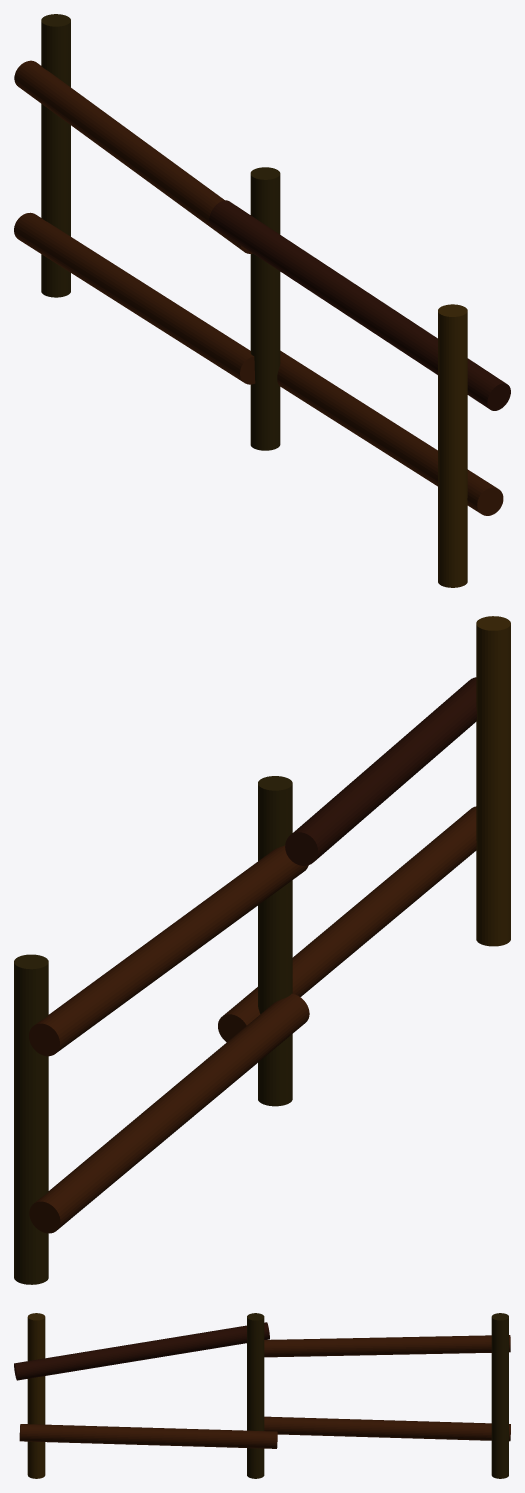
The model's file is fence.3.fbx.
3 renders of one model, top to bottom at view 1: azimuth 30°, elevation 25°; view 2: azimuth 150°, elevation 25°; view 3: azimuth 270°, elevation 25°, orthographic. The views are drawn at different scales.
Parts seen in each view (by area): view 1: 円柱.002, 円柱.006, 円柱, 円柱.005, 円柱.001, 円柱.003, 円柱.004; view 2: 円柱.006, 円柱.005, 円柱, 円柱.004, 円柱.003, 円柱.002, 円柱.001; view 3: 円柱.003, 円柱.002, 円柱.005, 円柱.006, 円柱.004, 円柱.001, 円柱.
Boxes of the visible parts, x1,y1,x2,y2 form: 円柱.002: (209, 200, 510, 410); 円柱.006: (14, 212, 255, 384); 円柱: (438, 304, 467, 587); 円柱.005: (14, 60, 252, 253); 円柱.001: (250, 167, 280, 450); 円柱.003: (277, 350, 503, 515); 円柱.004: (41, 14, 70, 297); 円柱.006: (29, 993, 309, 1233); 円柱.005: (29, 845, 308, 1056); 円柱: (476, 616, 510, 946); 円柱.004: (14, 954, 48, 1284); 円柱.003: (218, 806, 476, 1042); 円柱.002: (285, 677, 476, 865); 円柱.001: (258, 776, 292, 1106); 円柱.003: (19, 1424, 277, 1448); 円柱.002: (14, 1322, 269, 1380); 円柱.005: (264, 1335, 510, 1357); 円柱.006: (264, 1416, 510, 1441); 円柱.004: (491, 1313, 508, 1478); 円柱.001: (247, 1313, 264, 1478); 円柱: (27, 1313, 45, 1478).
Size of the model in its own units: 204 by 600 by 1706.
